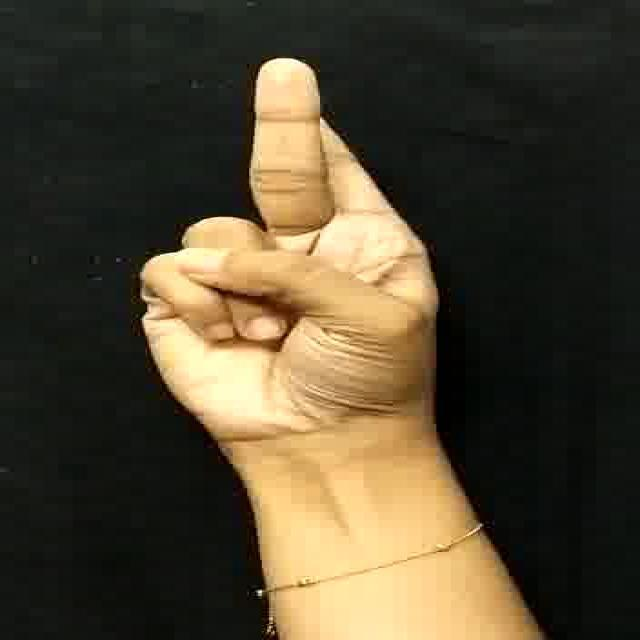kartarimukh: (103, 48, 473, 428)
